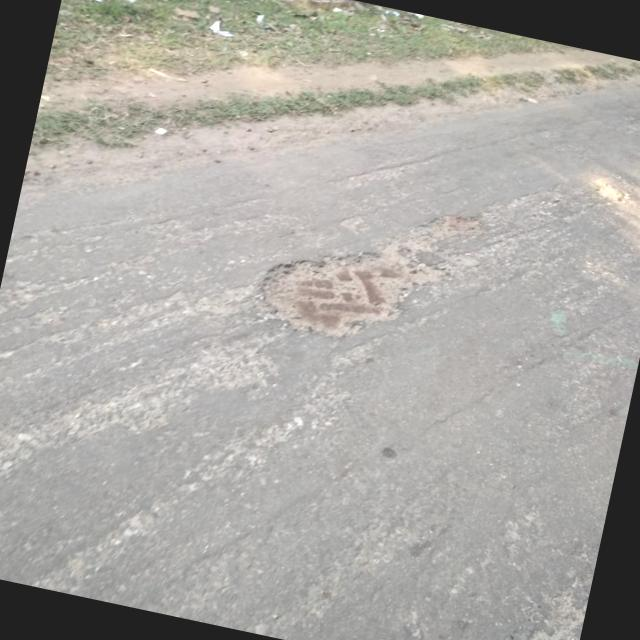Lubang: (262, 240, 445, 336)
